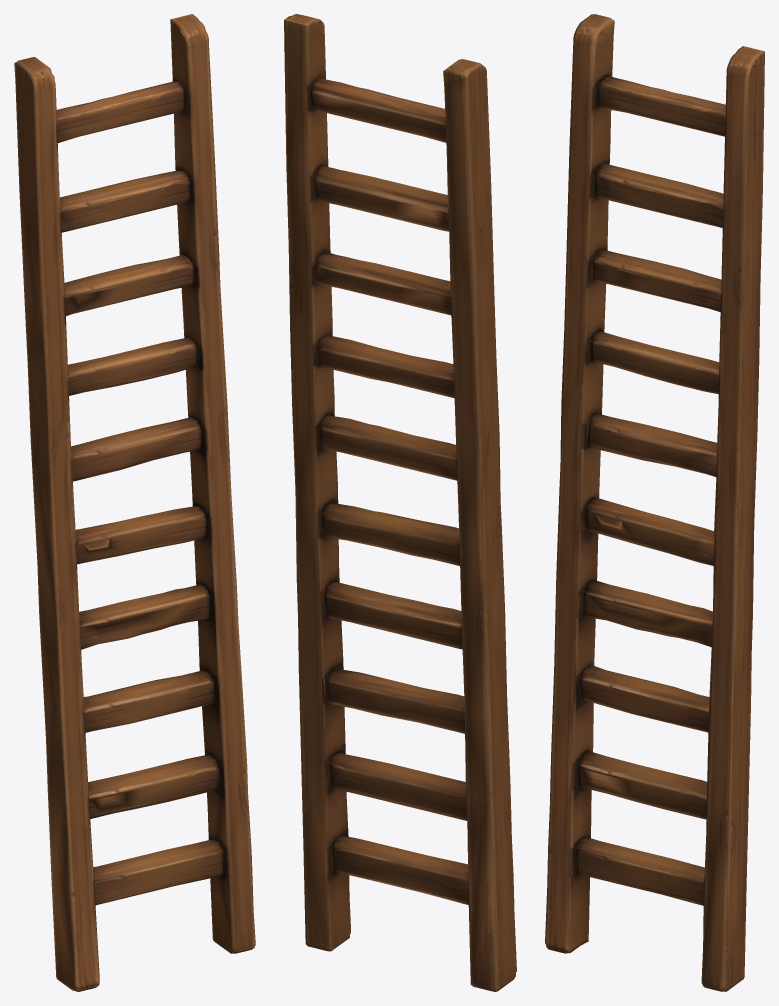
File: ladder.glb
The picture shows the model from 3 angles, left to right: view 1: azimuth 30°, elevation 25°; view 2: azimuth 150°, elevation 25°; view 3: azimuth 330°, elevation 25°; orthographic projection. The views are drawn at different scales.
Parts seen in each view (by area): view 1: Warmwood Ten Rung Ladder; view 2: Warmwood Ten Rung Ladder; view 3: Warmwood Ten Rung Ladder.
Part boxes in pixels (x1=…): Warmwood Ten Rung Ladder: x1=14, y1=14, x2=255, y2=991; Warmwood Ten Rung Ladder: x1=284, y1=14, x2=516, y2=991; Warmwood Ten Rung Ladder: x1=545, y1=14, x2=764, y2=991.
Bounding box in the file's own units: 0.2168 × 0.998 × 0.1113.
1 material, 1 textured.
